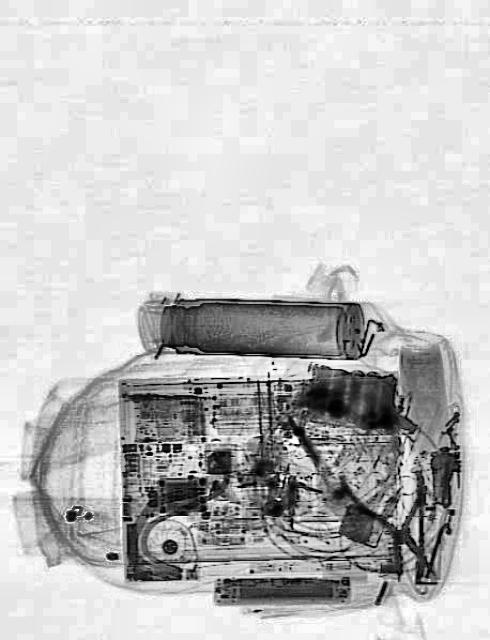Pliers: (342, 459, 444, 596)
